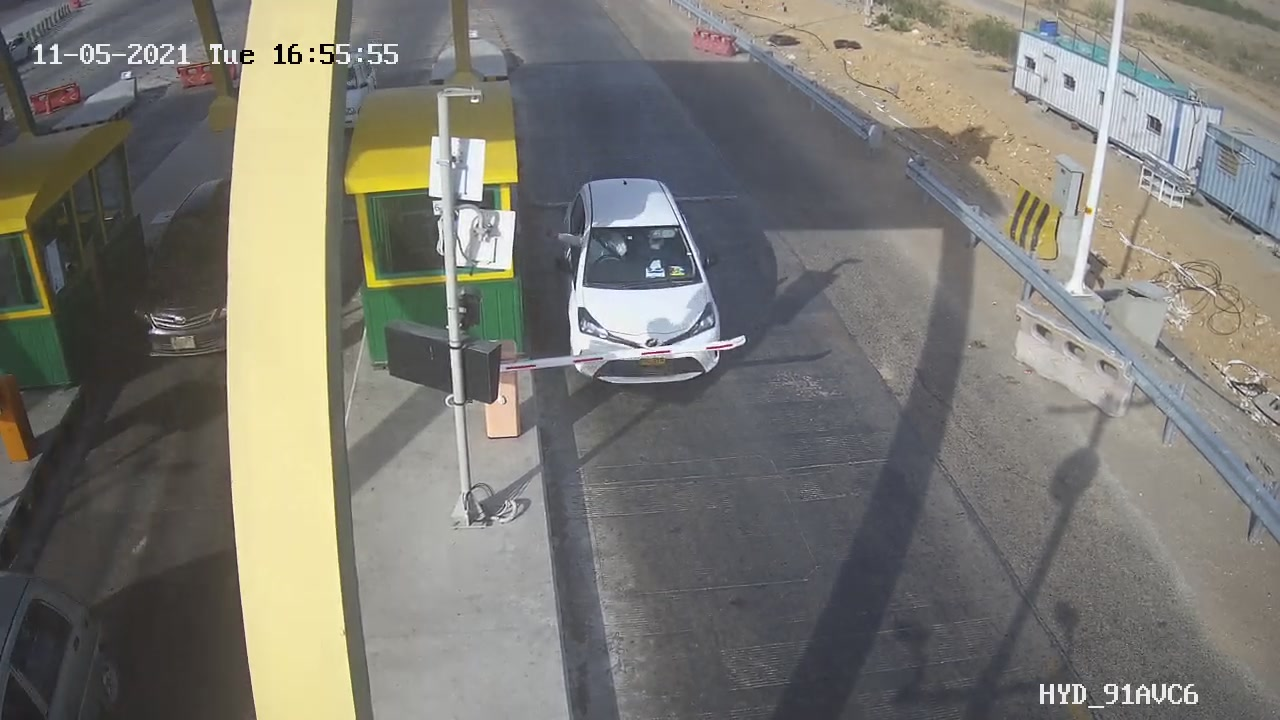F1: (535, 160, 746, 403)
